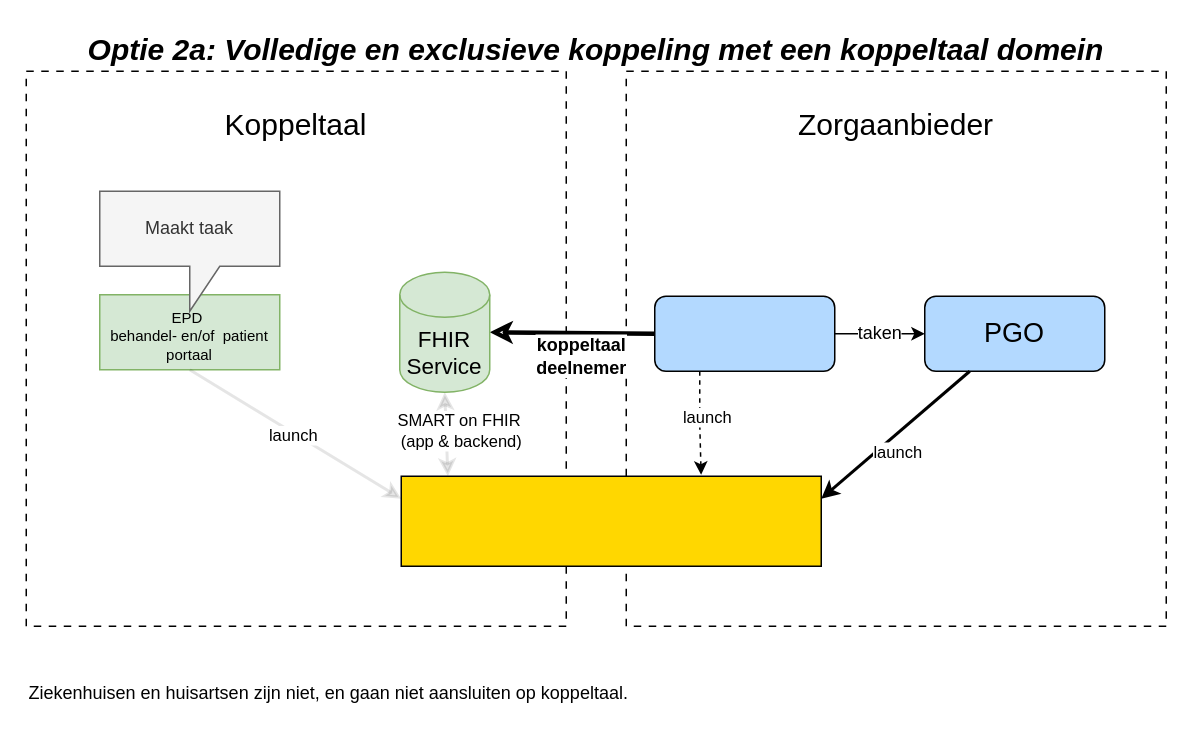
This 1193x741 diagram has some shape labels left out. Here are the shapes that lost their labels. From the top down, the centre of each, then its label:
At pixel 744 333: "DVA".
At pixel 610 520: "Module".
